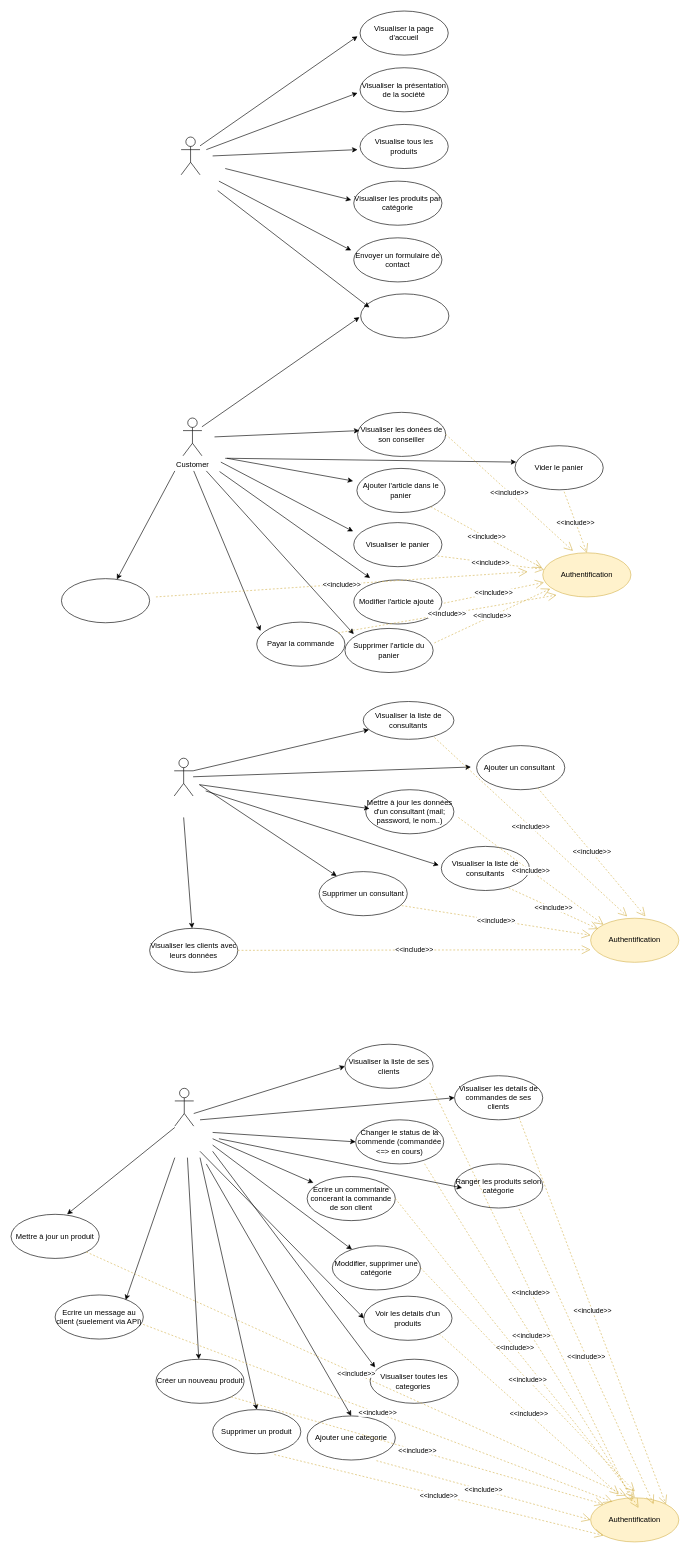
Some shapes in this 690 by 1555 pixel diagram are drawn without their labels. Here are the shapes that lost their labels. From the top down, the centre of each, then its label:
At (x=190, y=155): "Visiteur".
At (x=404, y=315): "Créér un compte".
At (x=105, y=600): "Viualiser son espace rangé par commands effectuées ou en cours".
At (x=183, y=777): "Administrateur".
At (x=184, y=1107): "Consultant".
